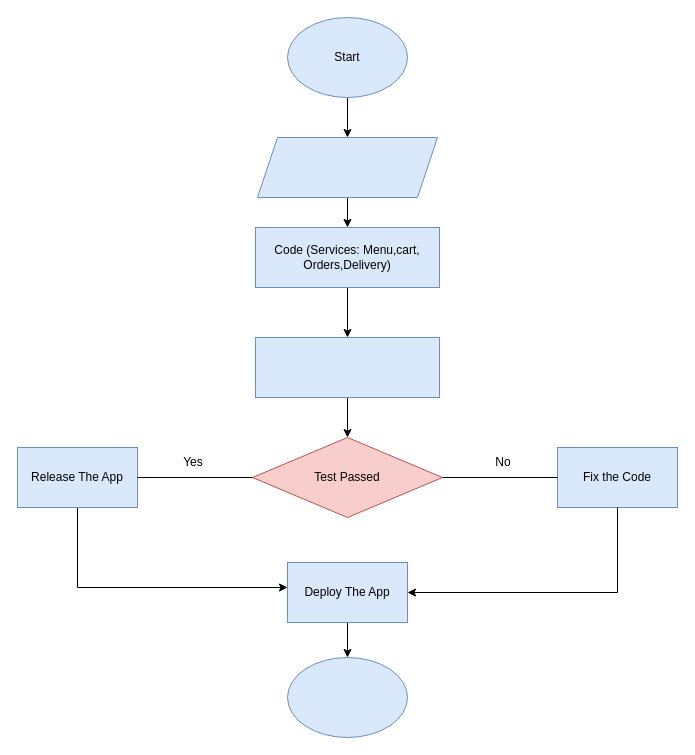
Some shapes in this 695 by 755 pixel diagram are drawn without their labels. Each missing label, with the centre of its shape:
Build mobile app: point 347,367
End: point 347,697
Plan Features (Search, Orders,Pay): point 347,167
